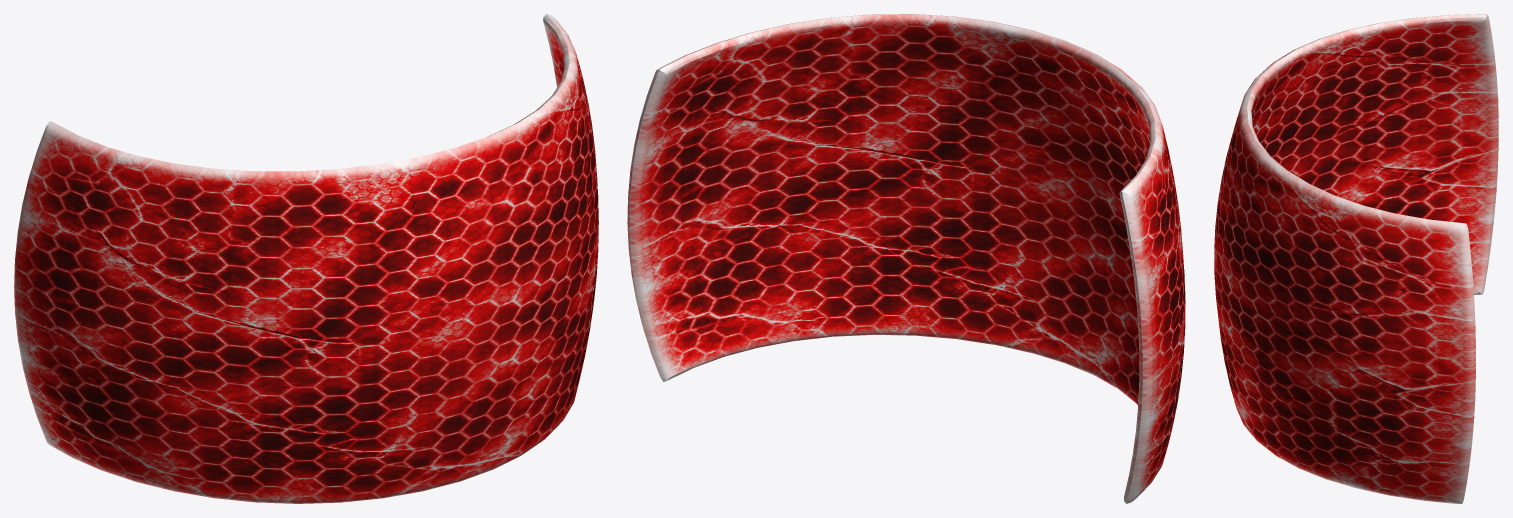
Rendered from ShieldRed.obj.
3 views of the same model, side by side, from view 1: azimuth 30°, elevation 25°; view 2: azimuth 150°, elevation 25°; view 3: azimuth 270°, elevation 25° (orthographic). The views are drawn at different scales.
Visible parts, largest first — view 1: Holo_shield_mesh; view 2: Holo_shield_mesh; view 3: Holo_shield_mesh.
Part boxes in pixels (<box>): Holo_shield_mesh: <box>14,14,598,503</box>; Holo_shield_mesh: <box>627,14,1185,503</box>; Holo_shield_mesh: <box>1214,14,1498,503</box>.
Size of the model in its own units: 2.85 by 1.65 by 1.46.
